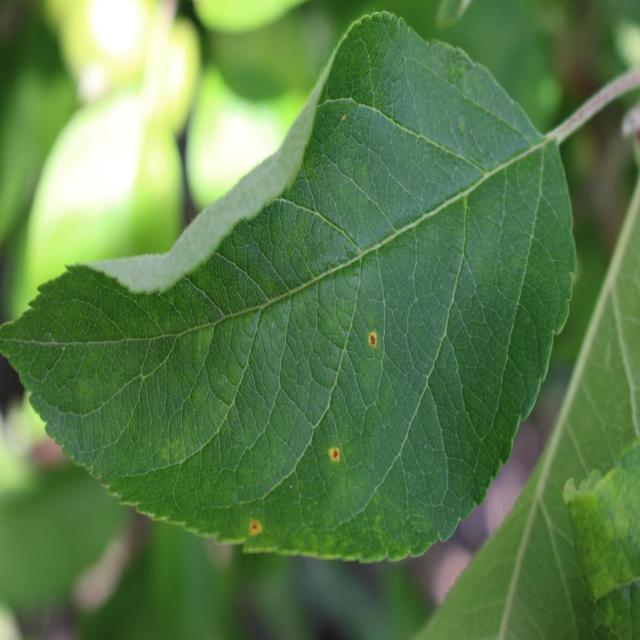Rust: (323, 419, 348, 479), (246, 506, 270, 558), (363, 323, 385, 359)
